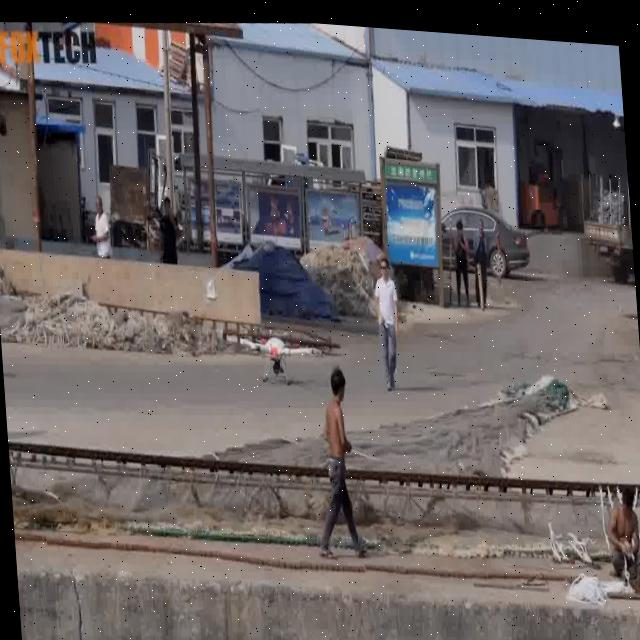drone: (234, 318, 322, 388)
